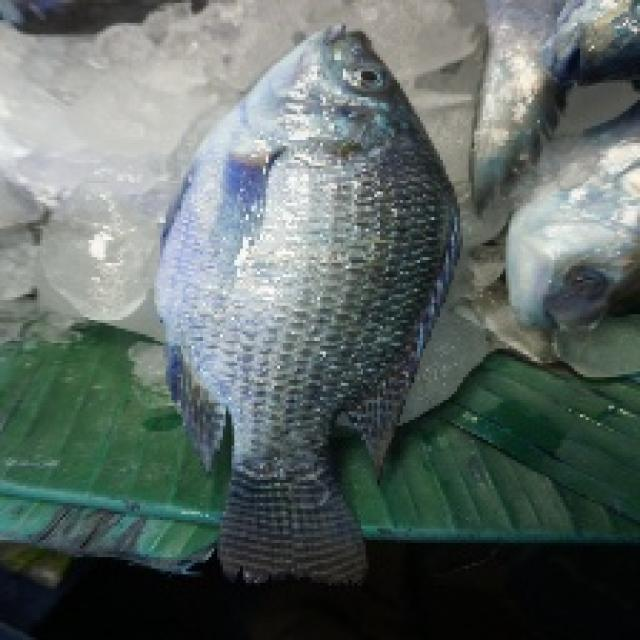Fresh: (168, 13, 472, 441)
